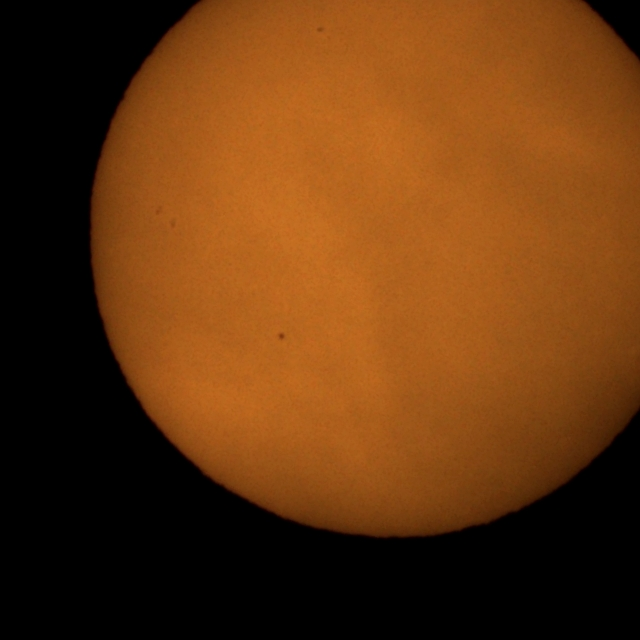sunspot: (154, 205, 164, 217), (276, 331, 286, 342), (315, 26, 325, 34)
